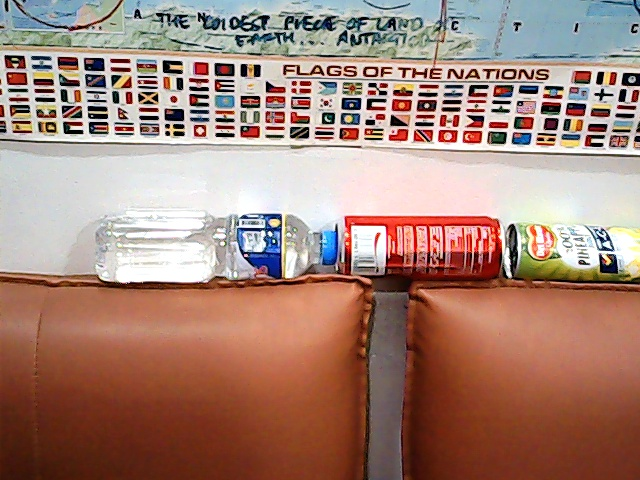Cola: (343, 214, 507, 287)
Pine Juice: (499, 211, 640, 293)
Summit Water: (88, 199, 343, 297)
